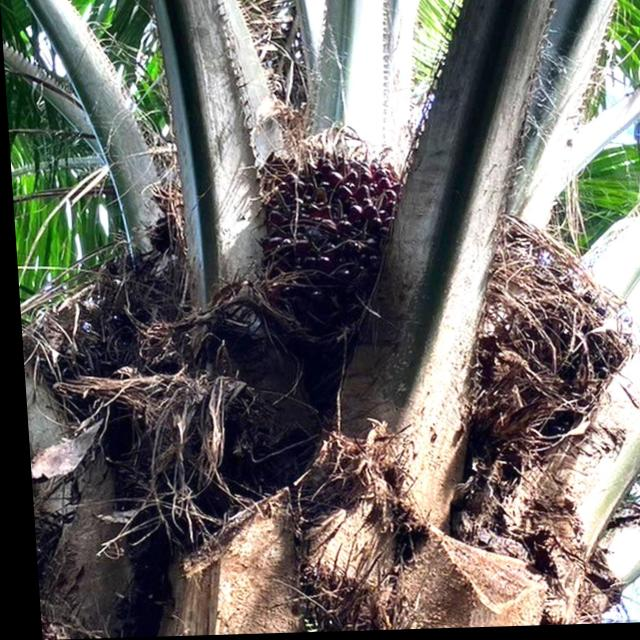ripe: (237, 132, 418, 368)
